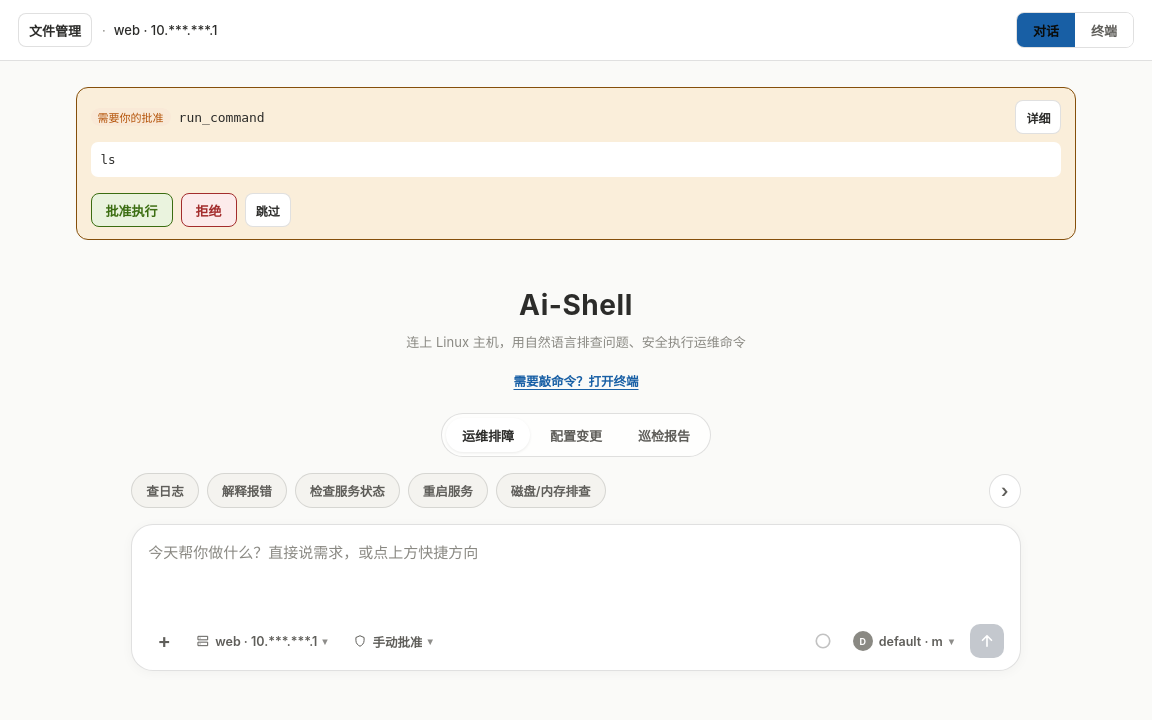
Test case: ConsolePanel 审批条 › 「复制」成功显示已复制，关闭重开不残留
Click the button "详细": (1038, 117) [1015,100,1061,134]
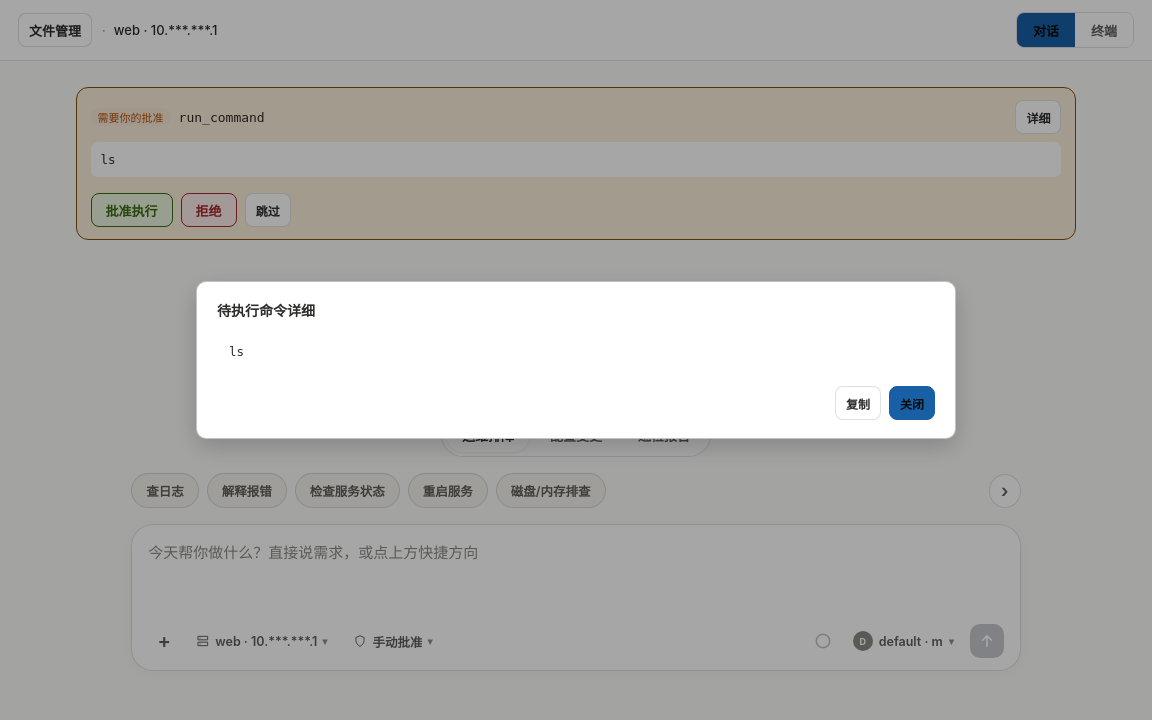
Click the button "复制": (858, 403) [835,386,881,420]
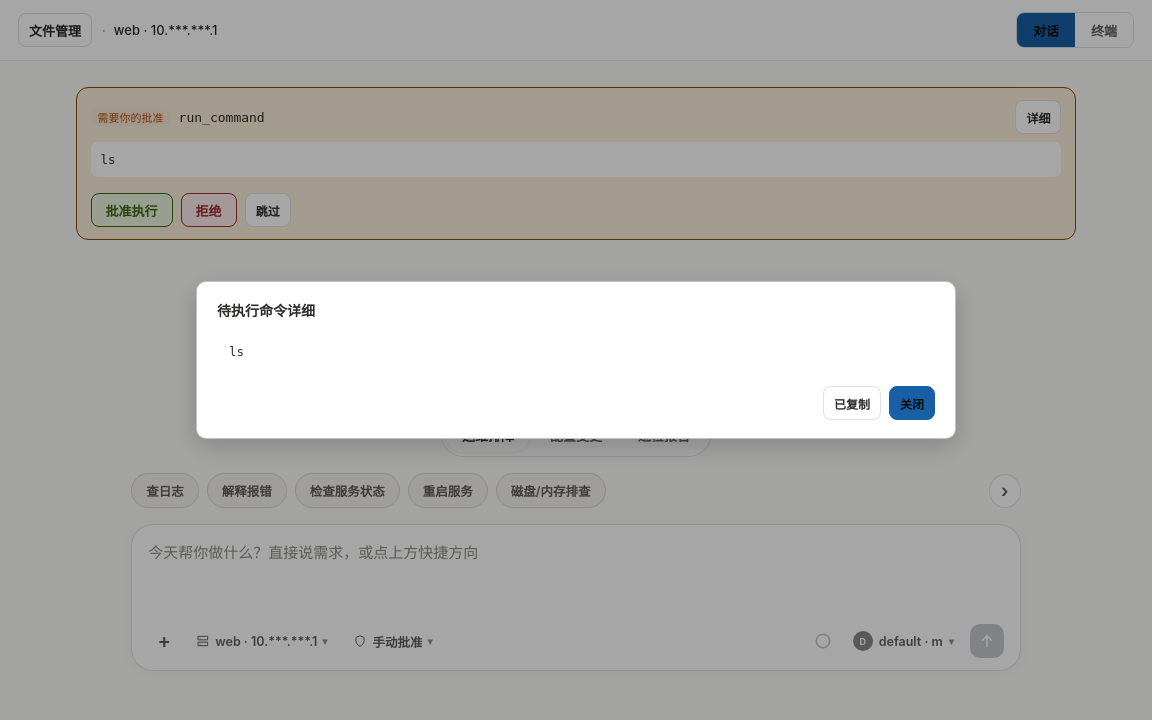
expect the button "已复制" is shown: met, box [823,386,881,420]
// 关闭后重开：不能残留上一次的「已复制」
Click the button "关闭": (912, 403) [889,386,935,420]
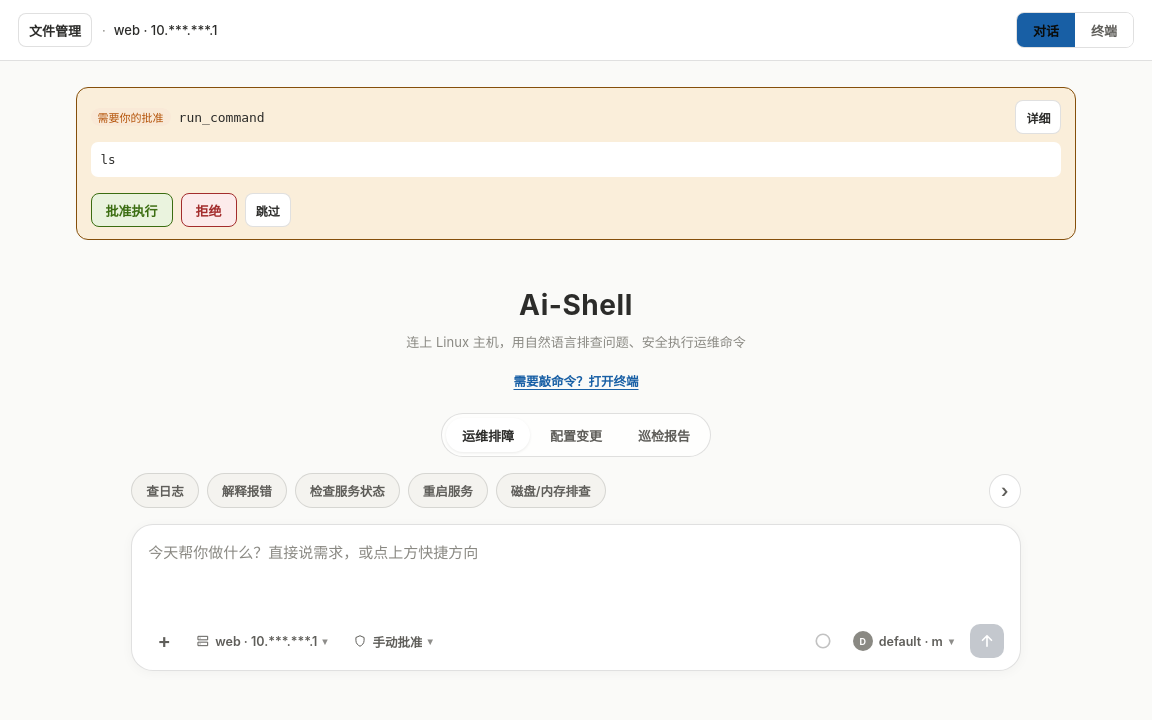
Click the button "详细": (1038, 117) [1015,100,1061,134]
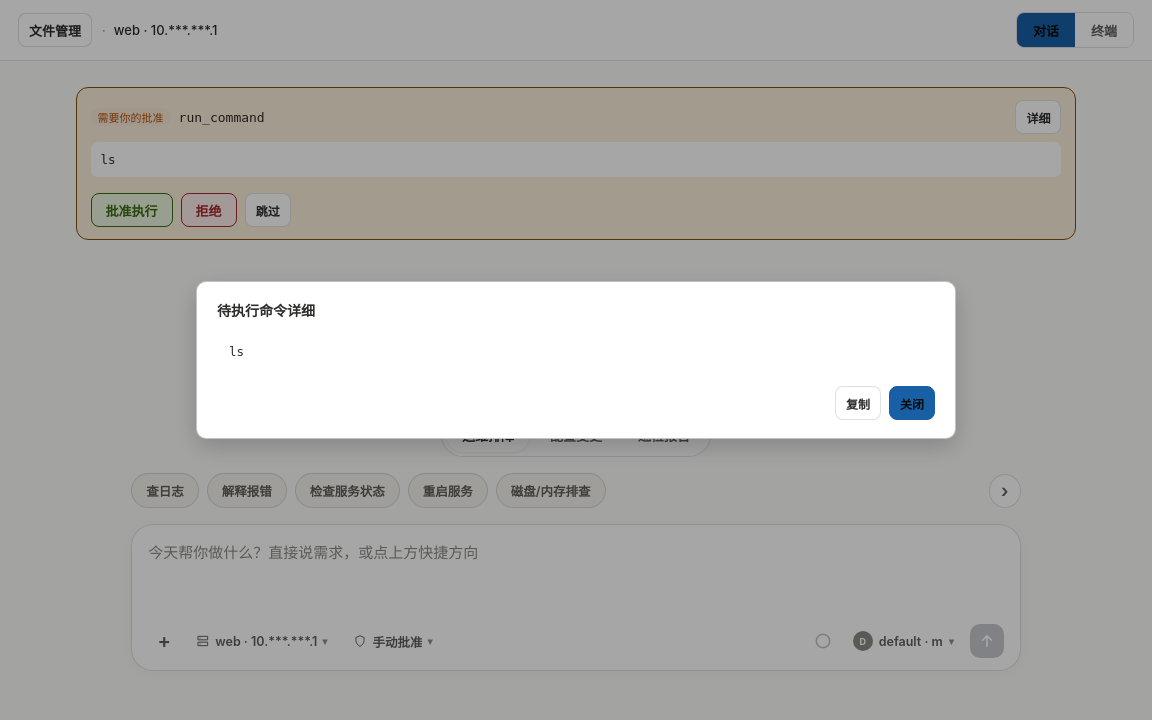
expect the button "复制" is shown: met, box [835,386,881,420]
